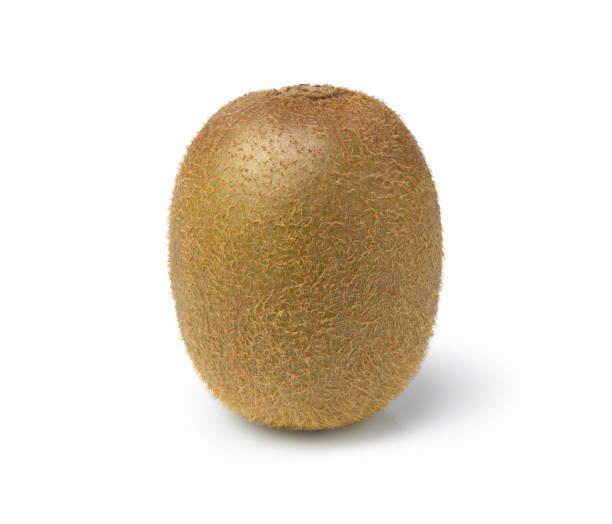kiwi: (146, 74, 458, 435)
